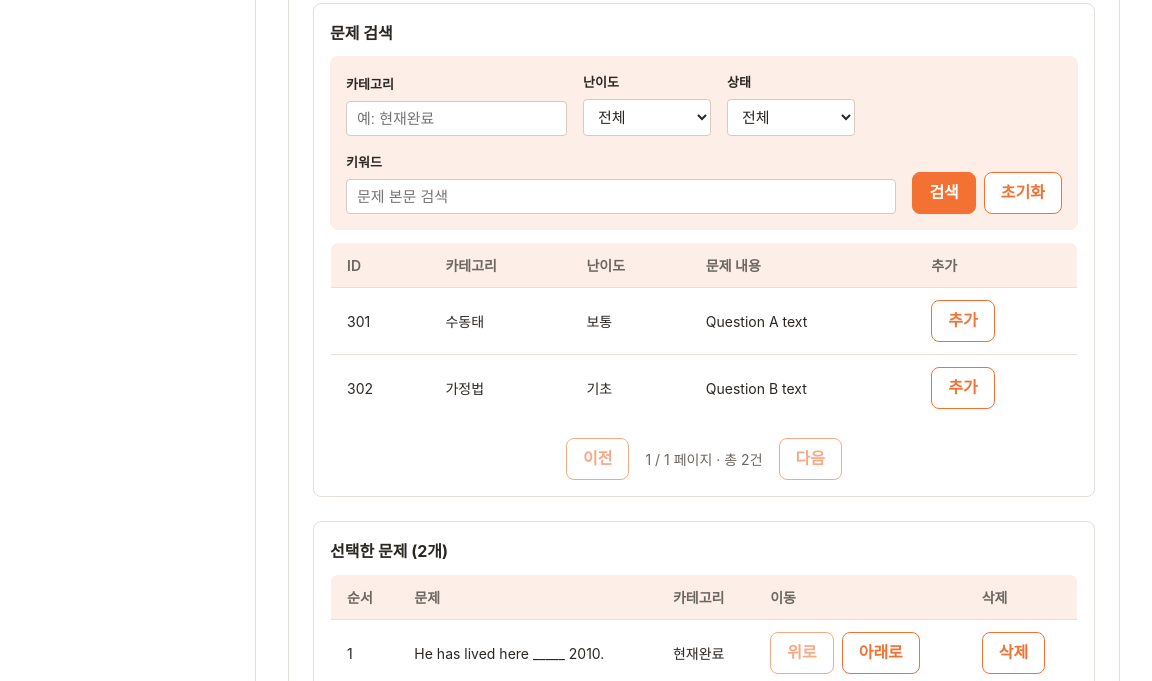
Scenario: AssignmentEditPage › supports adding, reordering, and removing selected questions via the search results
(page scrolled)
Click the button "추가" in the row of "301". click: [963, 321]
box: [931,300,995,342]
(page scrolled)
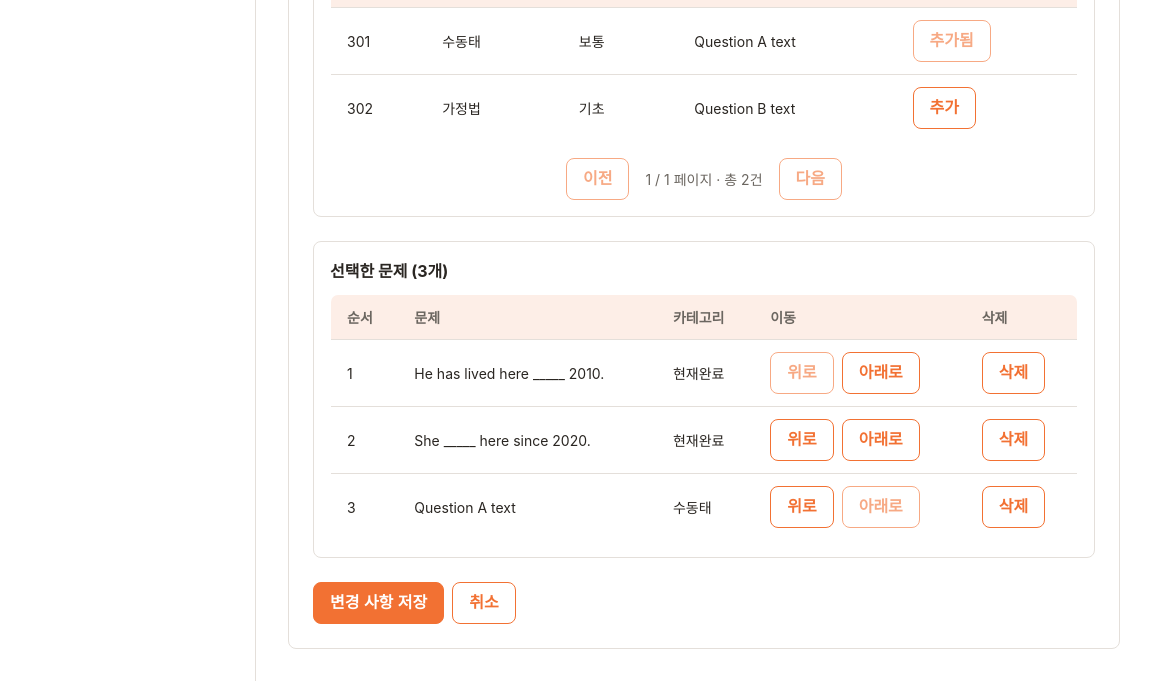
Expected: the heading "선택한 문제 (3개)" is shown, [330,261,448,281]
Click the button with aria-label "Question A text 위로 이동". click: [802, 507]
box: [770,486,834,528]
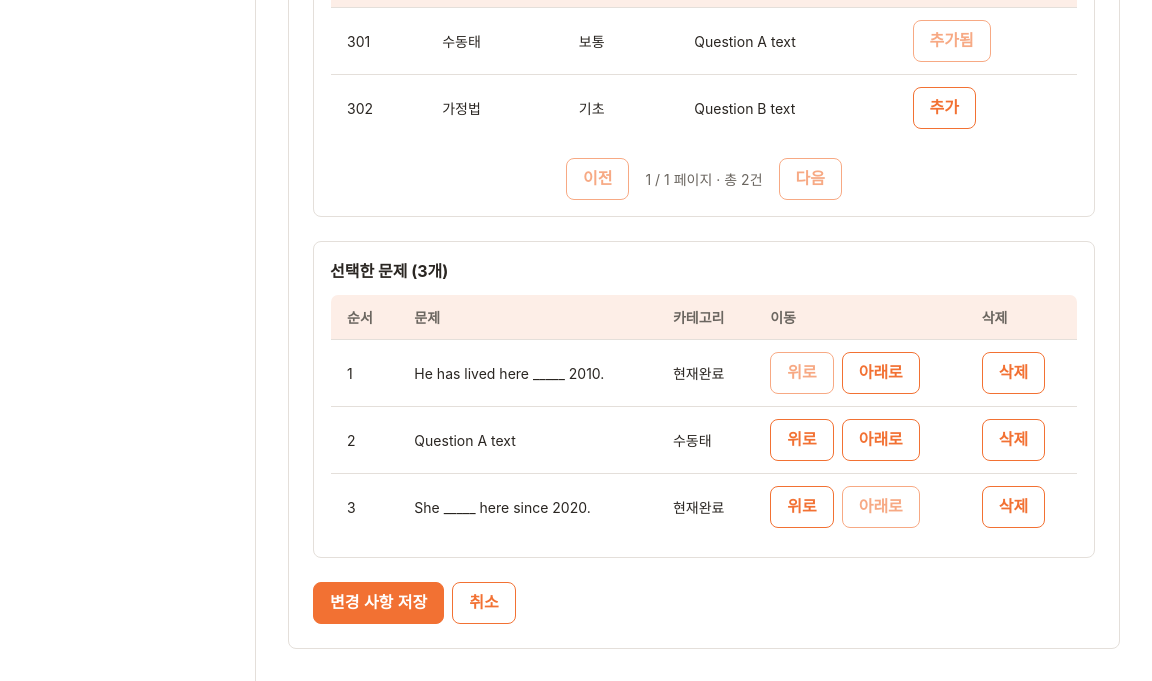
Expected: the text "Question A text" below "He has lived here _____ 2010." is shown, [414,432,516,448]
Click the button with aria-label "Question A text 삭제". click: [1013, 440]
box: [982,419,1045,461]
(page scrolled)
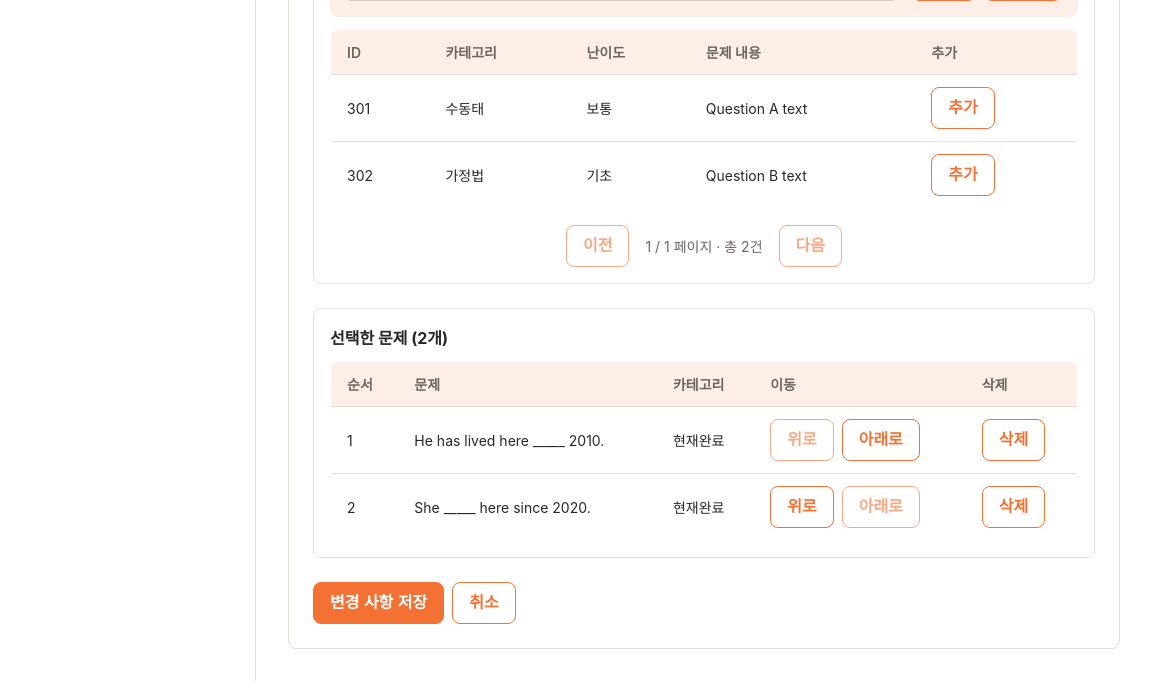
Expected: the heading "선택한 문제 (2개)" is shown, [330,328,448,348]
